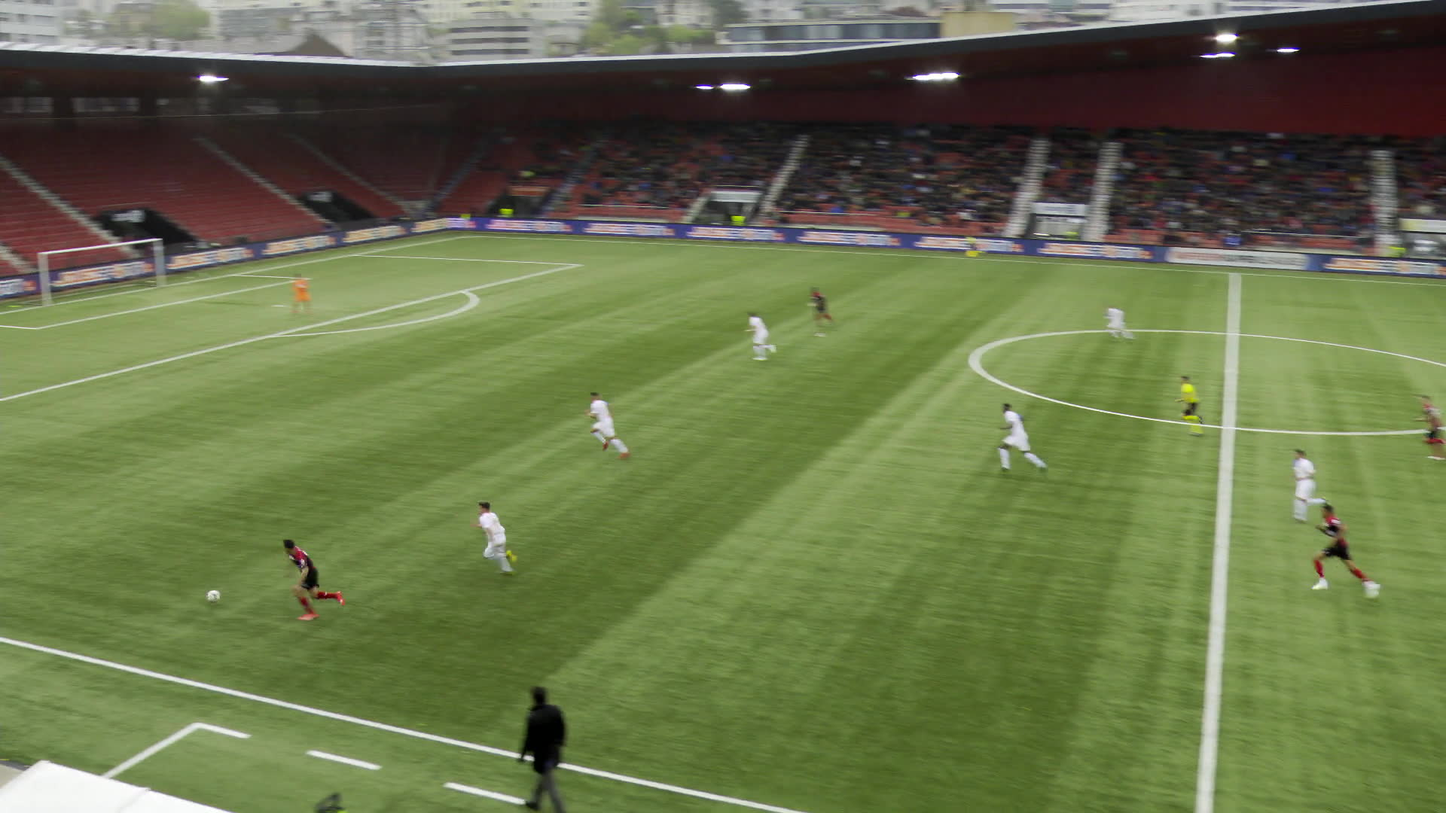ball: (206, 589, 220, 603)
player: (255, 539, 343, 620), (460, 501, 533, 578), (1310, 506, 1363, 598), (1278, 447, 1326, 518), (580, 392, 624, 458), (994, 405, 1034, 477), (1409, 391, 1445, 461), (737, 311, 776, 362), (280, 273, 306, 315), (799, 288, 826, 328), (1098, 304, 1127, 341)
referee: (1165, 373, 1214, 432), (958, 234, 978, 257)
